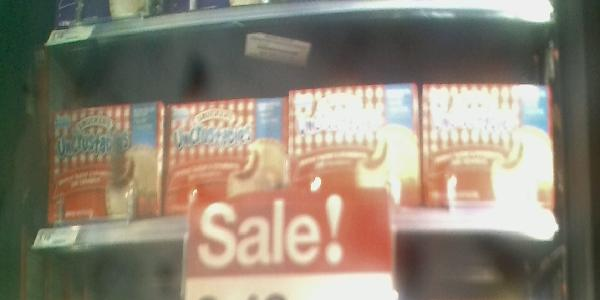icecream: (288, 86, 424, 217), (421, 80, 554, 211), (164, 101, 285, 221), (44, 107, 166, 221)
